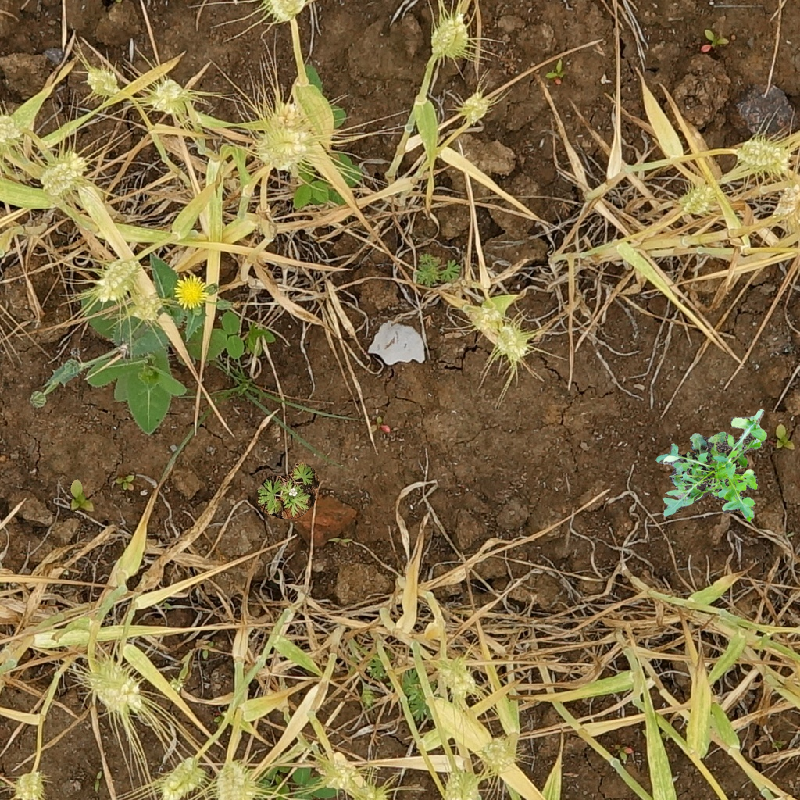spikelet: (85, 656, 143, 712), (255, 127, 311, 171), (92, 255, 138, 304), (735, 135, 791, 174), (158, 757, 206, 800), (39, 150, 87, 193), (430, 12, 469, 59), (213, 758, 257, 799), (437, 656, 477, 700), (314, 750, 356, 791), (148, 77, 191, 114), (494, 322, 530, 361), (678, 181, 717, 217), (481, 735, 516, 774), (441, 767, 482, 800), (773, 180, 800, 228), (84, 65, 120, 97), (458, 90, 491, 124), (262, 1, 309, 22), (12, 769, 44, 799), (1, 110, 22, 150)
weed: (79, 310, 186, 434), (655, 409, 767, 523), (166, 272, 277, 362), (256, 463, 320, 522), (416, 252, 461, 288), (70, 479, 96, 513)
